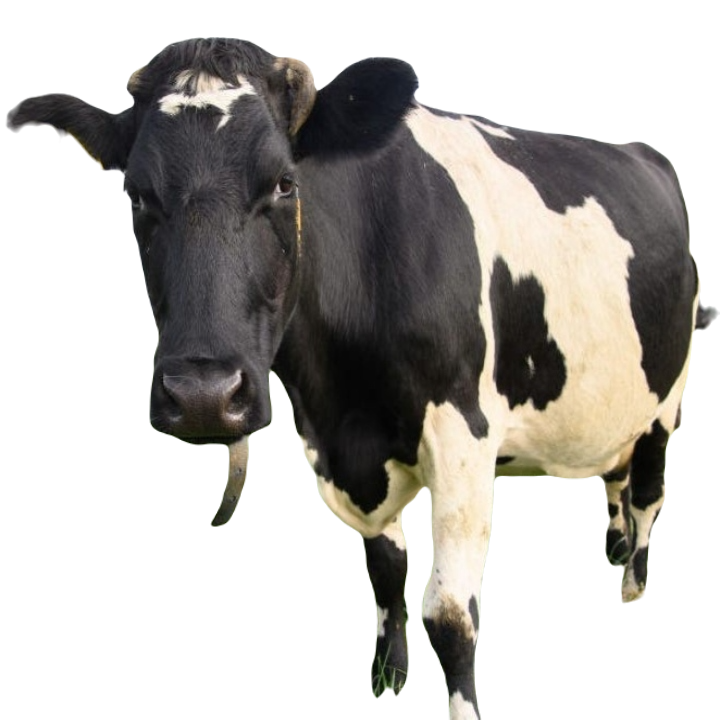Cow: (11, 39, 707, 717)
